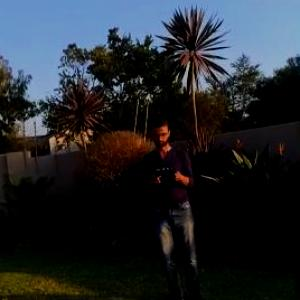follow: (141, 108, 210, 299)
object: (139, 111, 208, 299)
